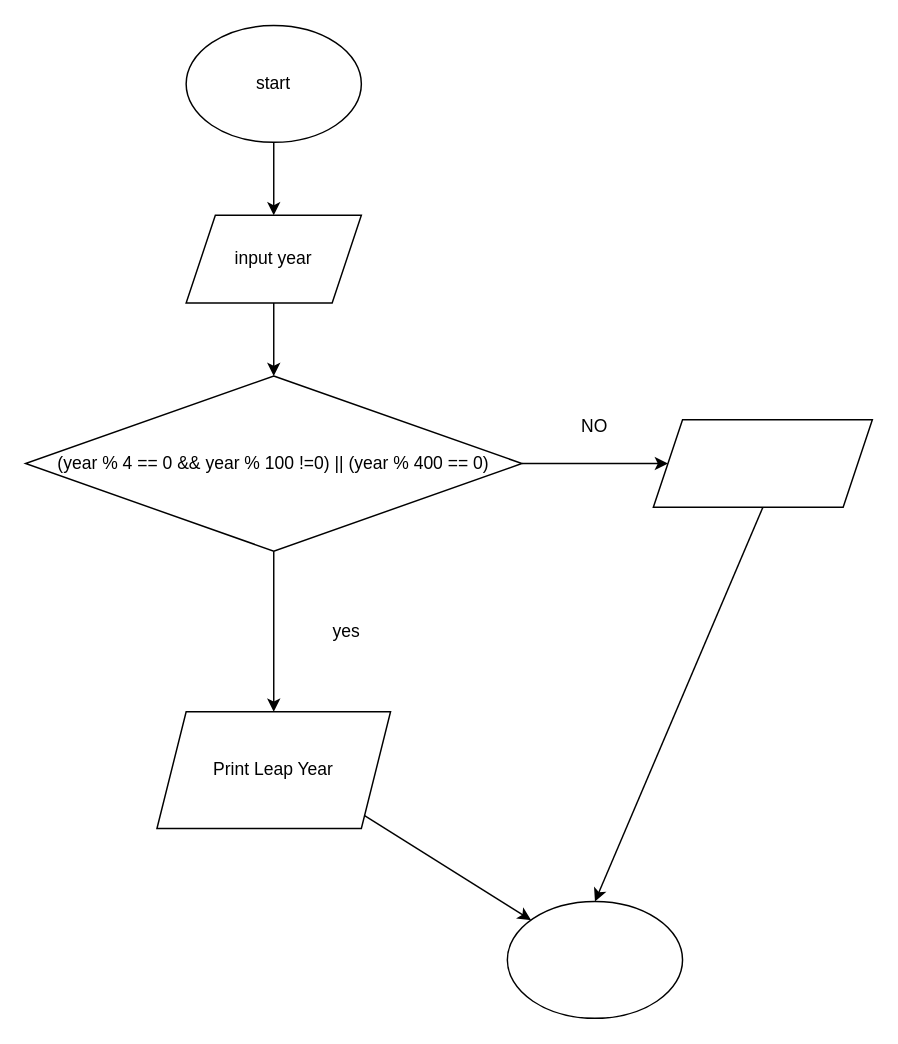
Image size: 898x1044. Some labels were removed from this diagram. Here are the shapes that lost their labels. From the top down, the box of each, then its label:
(652, 418, 872, 507): Print Not a leap year
(506, 900, 683, 1018): END
